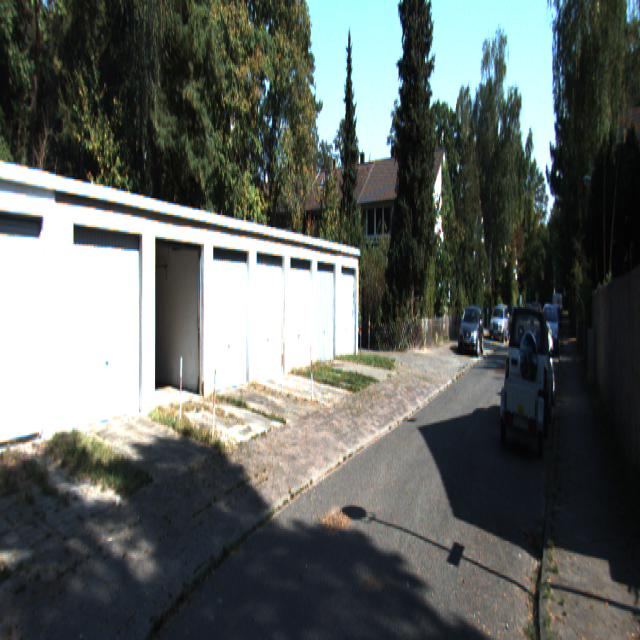Car: (505, 299, 553, 430), (502, 370, 541, 454), (458, 304, 484, 355)
